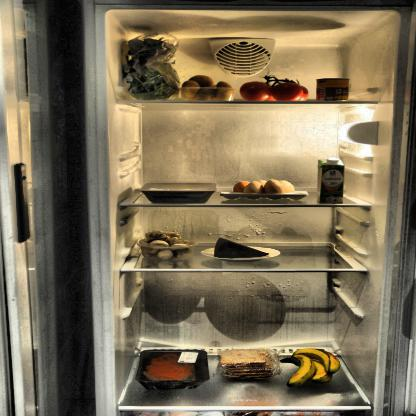banana: (286, 347, 344, 388)
beef: (142, 352, 200, 384)
cheese: (212, 236, 269, 258)
corn: (315, 79, 350, 101)
eggs: (233, 177, 300, 197)
heavy_cream: (318, 154, 346, 205)
mushrooms: (138, 231, 190, 262)
potato: (180, 74, 233, 103)
spinach: (121, 35, 177, 100)
tomato: (241, 78, 309, 103)
